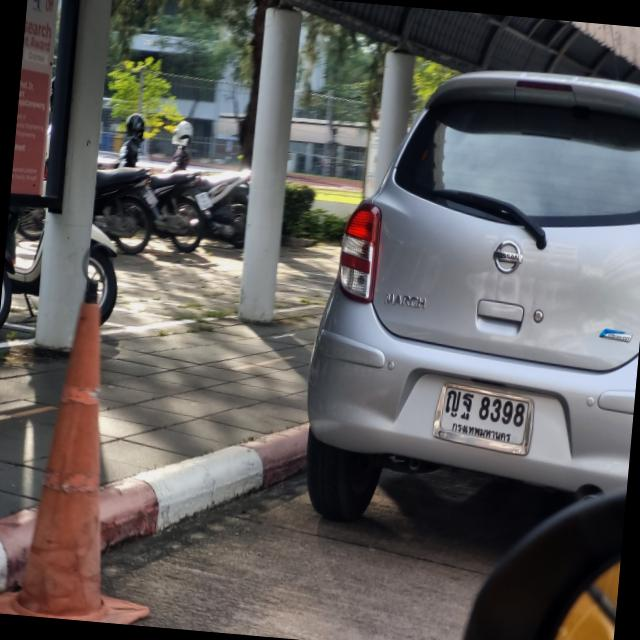license_plate: (433, 374, 538, 456)
